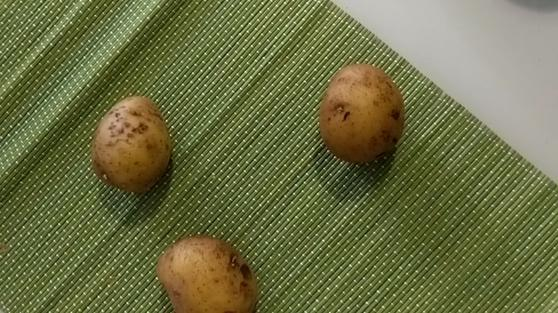potato: (318, 64, 401, 160), (158, 236, 255, 313), (94, 94, 171, 187)
